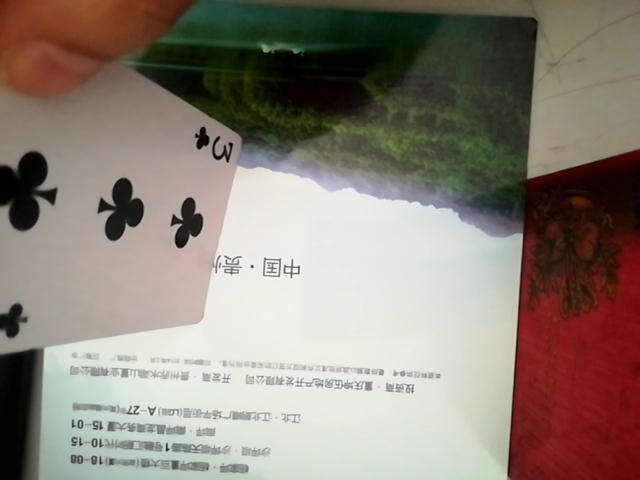mh 3: (0, 35, 223, 376)
